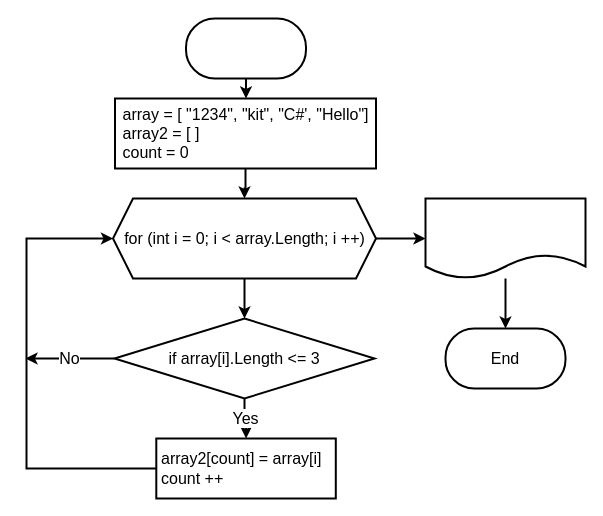
Some shapes in this 603 by 516 pixel diagram are drawn without their labels. Each missing label, with the box of its shape:
array2 = ["kit", "C#"]: (424, 197, 586, 279)
Start: (184, 17, 306, 79)
